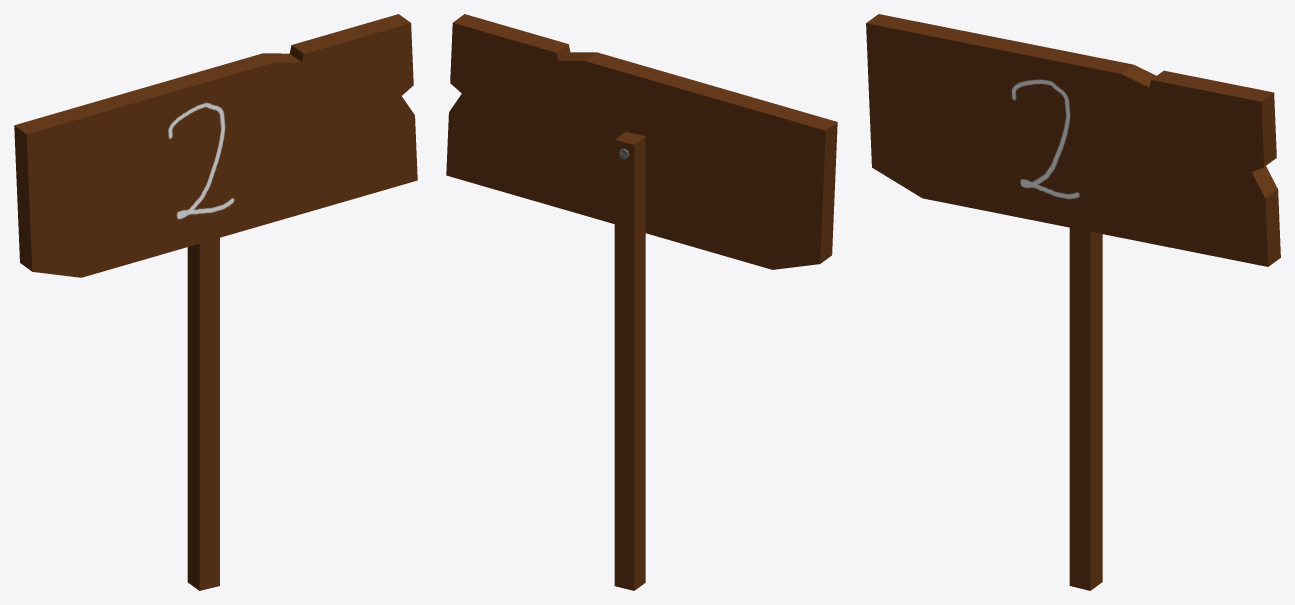
Rendered from sign2_2.glb.
3 renders of one model, left to right at view 1: azimuth 30°, elevation 25°; view 2: azimuth 150°, elevation 25°; view 3: azimuth 330°, elevation 25°, orthographic. The views are drawn at different scales.
Parts seen in each view (by area): view 1: Sign 2; view 2: Sign 2; view 3: Sign 2.
Boxes of the visible parts, bbox=[...] form: Sign 2: bbox=[14, 14, 417, 590]; Sign 2: bbox=[446, 14, 837, 590]; Sign 2: bbox=[866, 14, 1280, 590].
Bounding box in the file's own units: 2.03 × 2.62 × 0.228.
2 materials, 1 textured.
